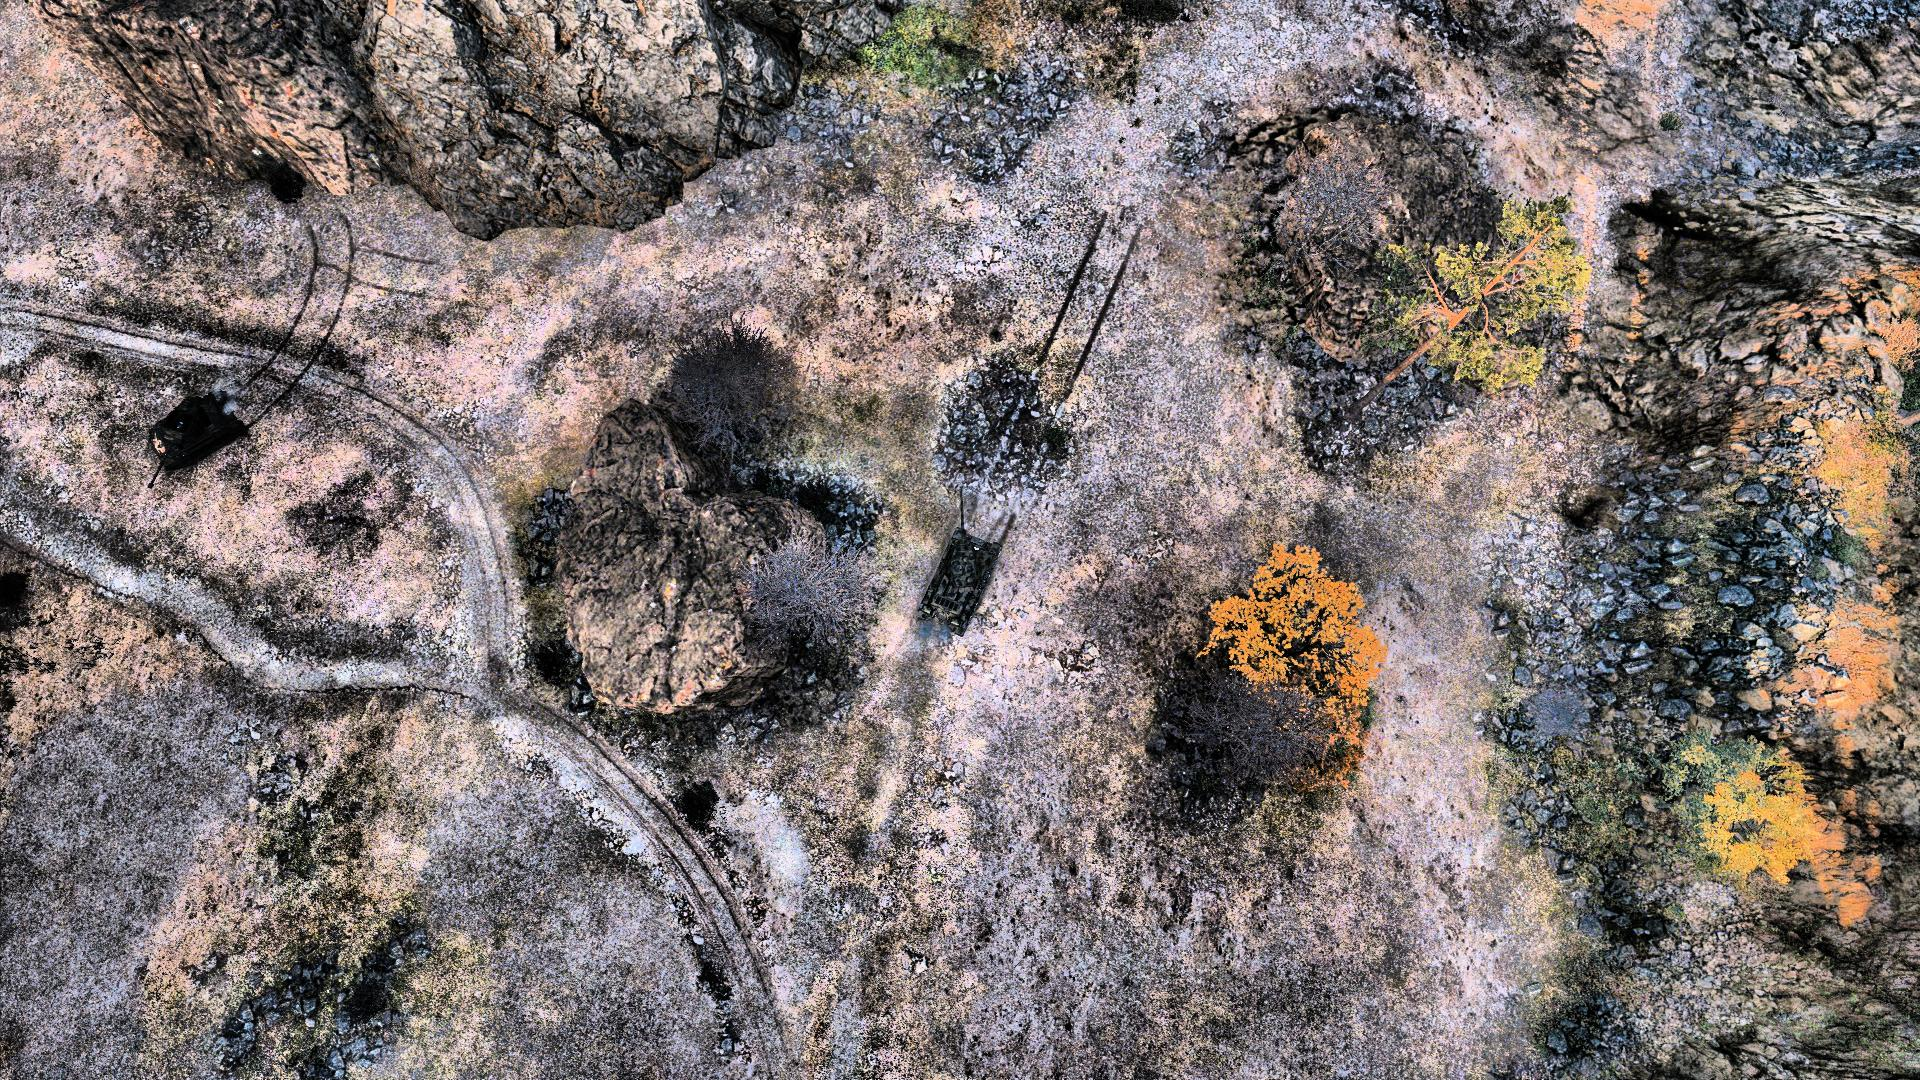military-vehicle: (913, 489, 1000, 630), (144, 390, 248, 491)
